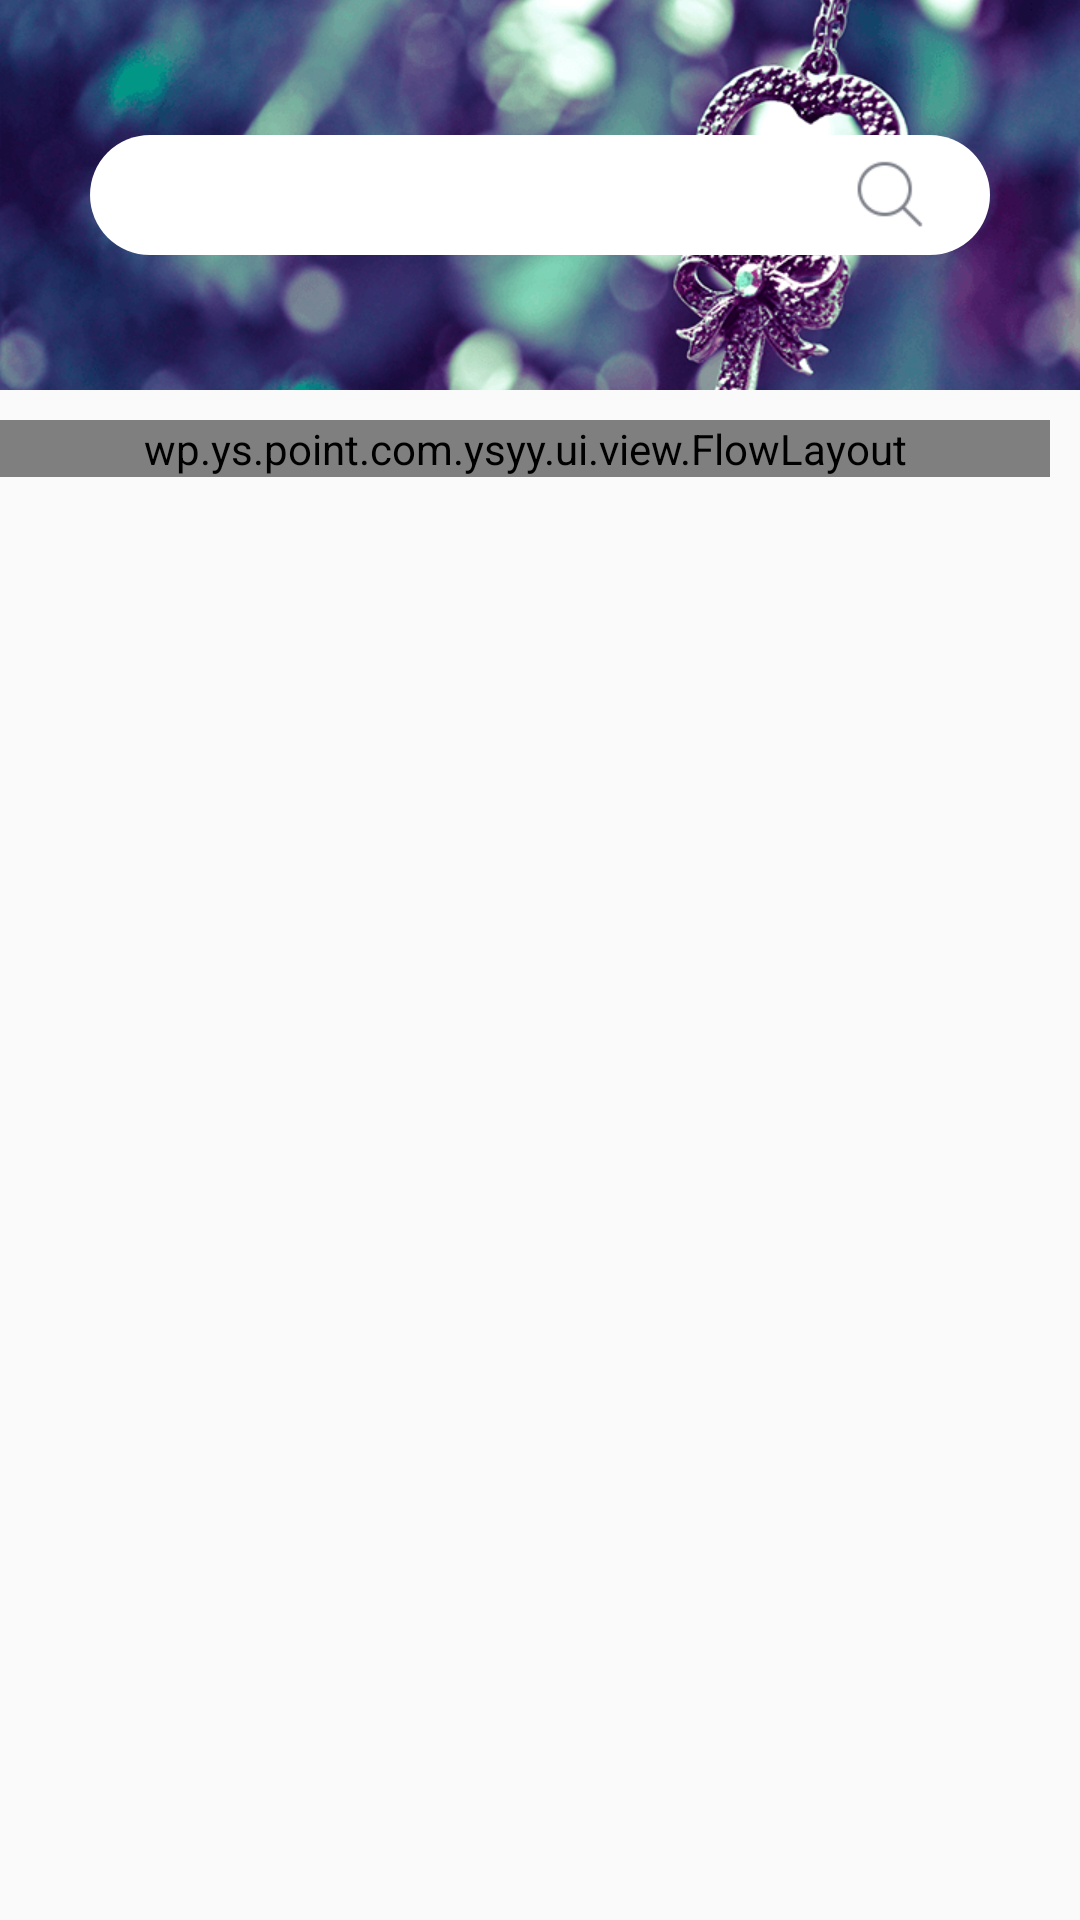

Named icons in this screenshot (1080 × 1920) and their centers, (x,y):
search: (889,195)
